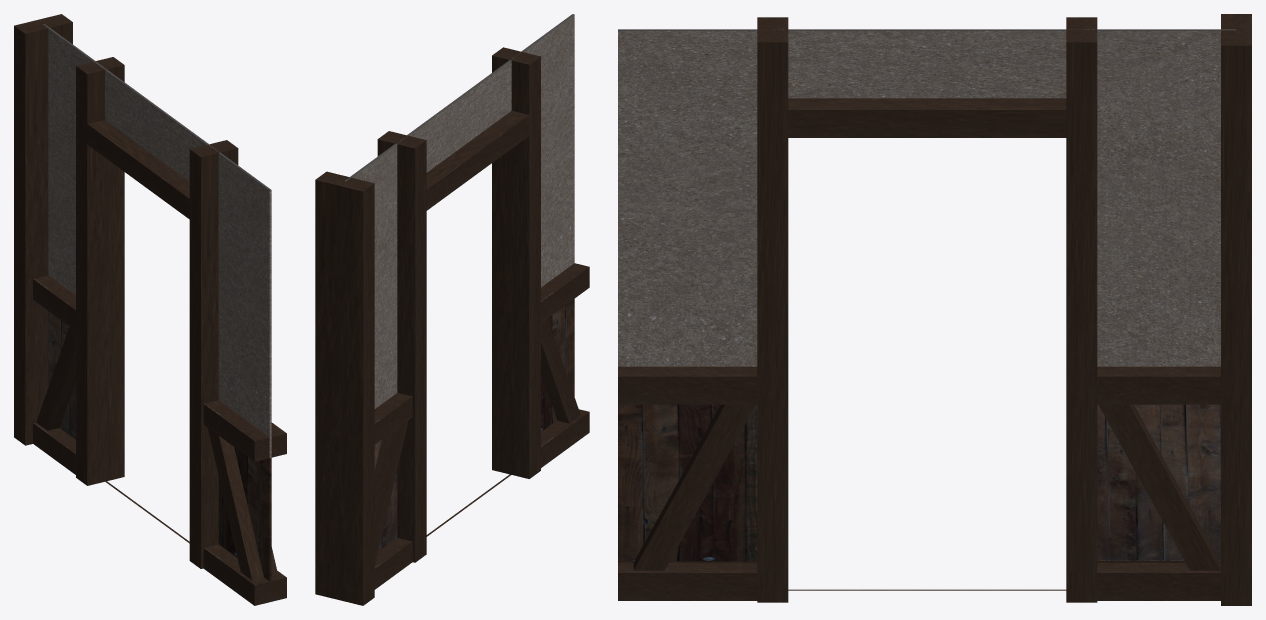
Rendered from OutdoorArchitecture_BasicWall01_Door01_NoDoor_RightEdge_BShortt.fbx.
3 views of the same model, side by side, from view 1: azimuth 30°, elevation 25°; view 2: azimuth 150°, elevation 25°; view 3: azimuth 270°, elevation 25° (orthographic). The views are drawn at different scales.
Visible parts, largest first — view 1: OutdoorArchitecture_BasicWall01_Door01_NoDoor_RightEdge_BSho; view 2: OutdoorArchitecture_BasicWall01_Door01_NoDoor_RightEdge_BSho; view 3: OutdoorArchitecture_BasicWall01_Door01_NoDoor_RightEdge_BSho.
Part boxes in pixels (x1,y1,x2,y2): OutdoorArchitecture_BasicWall01_Door01_NoDoor_RightEdge_BSho: (14, 14, 286, 605); OutdoorArchitecture_BasicWall01_Door01_NoDoor_RightEdge_BSho: (315, 14, 589, 605); OutdoorArchitecture_BasicWall01_Door01_NoDoor_RightEdge_BSho: (618, 14, 1251, 605).
Bounding box in the file's own units: 36.37 × 300 × 308.
